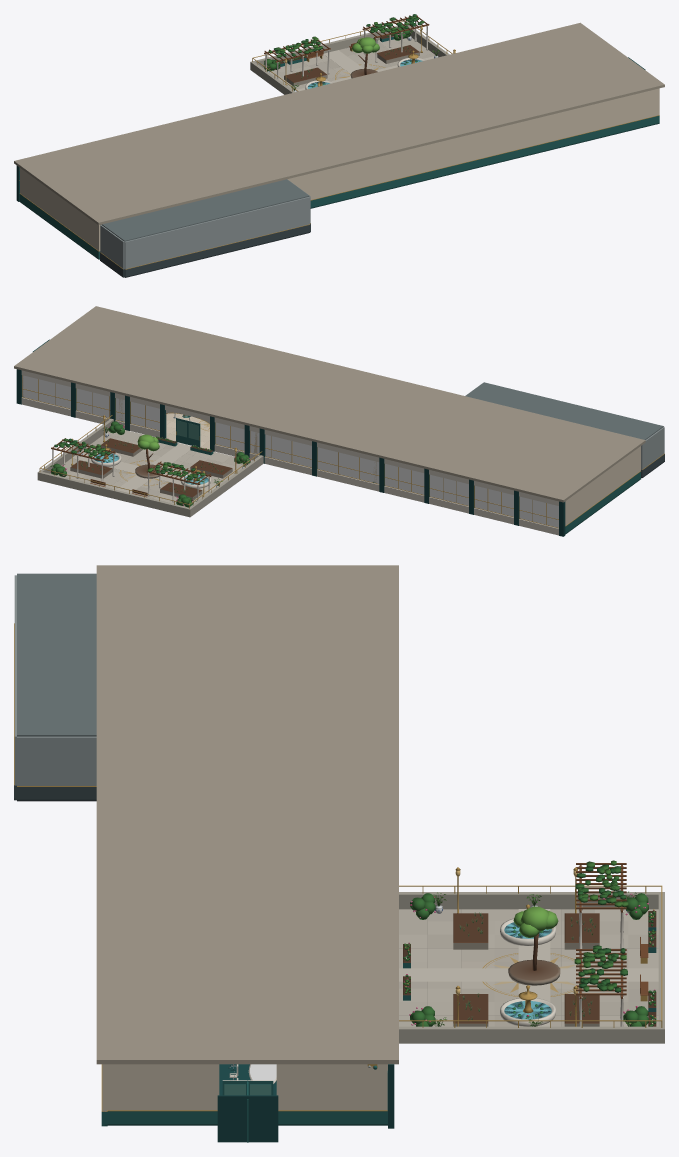
File: Floor42.fbx
3 renders of one model, top to bottom at view 1: azimuth 30°, elevation 25°; view 2: azimuth 150°, elevation 25°; view 3: azimuth 270°, elevation 25°, orthographic. The views are drawn at different scales.
Parts seen in each view (by area): view 1: Office_Roof, Canteen_Roof, Gallery_Roof, Meeting_Roof, Terrace, Corridor, Canteen, Corridor_Roof, Gallery, Meeting, Office; view 2: Office_Roof, Terrace, Canteen_Roof, Gallery_Roof, Meeting_Roof, Office, Office_Glass, Corridor_Roof, Canteen, Gallery, Gallery_Glass, Meeting (+3 smaller); view 3: Office_Roof, Terrace, Gallery_Roof, Meeting_Roof, Canteen_Roof, Meeting, Corridor_Roof, Corridor.
Boxes of the visible parts, box(x1,y1,x2,y2) form: Office_Roof: box(14, 114, 290, 225); Canteen_Roof: box(322, 46, 568, 147); Gallery_Roof: box(200, 86, 429, 179); Meeting_Roof: box(464, 22, 664, 115); Terrace: box(250, 14, 455, 94); Corridor: box(100, 180, 310, 277); Canteen: box(409, 112, 563, 184); Corridor_Roof: box(101, 179, 309, 241); Gallery: box(287, 147, 424, 208); Meeting: box(548, 57, 659, 150); Office: box(16, 165, 101, 259); Office_Roof: box(377, 394, 645, 502); Terrace: box(37, 415, 263, 517); Canteen_Roof: box(107, 329, 345, 429); Gallery_Roof: box(242, 362, 464, 458); Meeting_Roof: box(14, 306, 211, 396); Office: box(384, 446, 641, 536); Office_Glass: box(385, 464, 558, 527); Corridor_Roof: box(465, 382, 663, 439); Canteen: box(110, 392, 265, 463); Gallery: box(244, 425, 384, 492); Gallery_Glass: box(265, 434, 379, 483); Meeting: box(16, 339, 130, 430); Office_Roof: box(96, 565, 398, 733); Terrace: box(399, 860, 664, 1043); Gallery_Roof: box(96, 727, 398, 854); Meeting_Roof: box(96, 955, 398, 1064); Canteen_Roof: box(96, 854, 398, 975); Meeting: box(101, 1064, 394, 1142); Corridor_Roof: box(17, 573, 96, 736); Corridor: box(14, 575, 96, 801).
Bounding box in the file's own units: 75.4 × 4.9 × 40.9.
